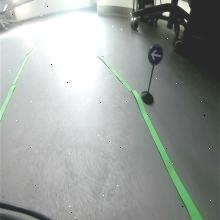left: (147, 42, 164, 68)
